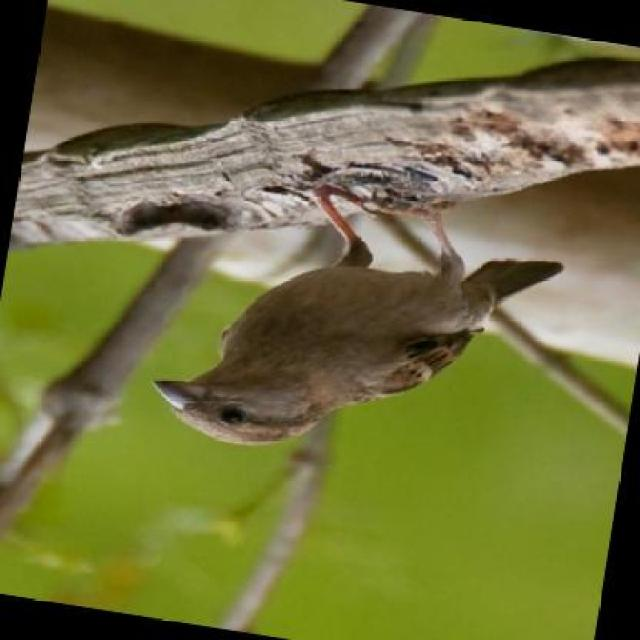sparrow: (142, 150, 575, 498)
